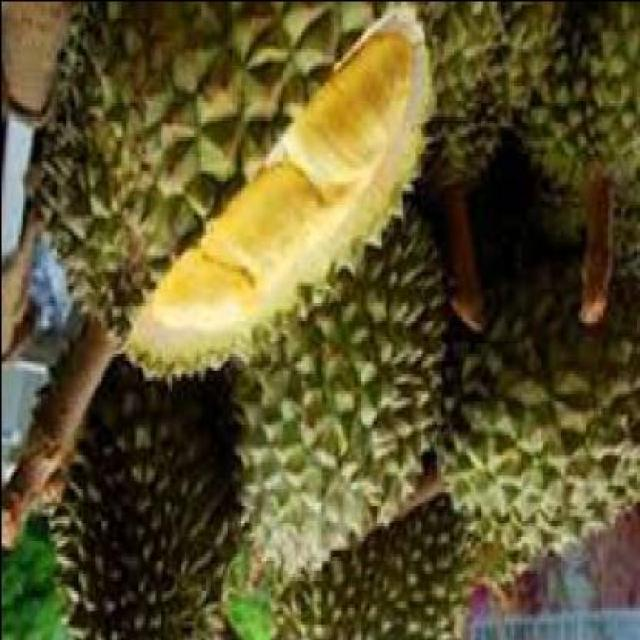BIODEGRADABLE: (30, 1, 412, 363), (126, 12, 431, 371), (244, 186, 445, 570), (444, 270, 640, 578), (52, 356, 242, 640), (421, 0, 537, 333), (523, 2, 640, 326), (279, 495, 462, 640), (0, 320, 116, 548), (2, 534, 66, 640), (228, 545, 279, 639)
